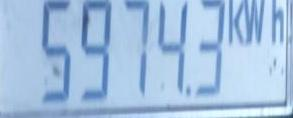.: (225, 0, 287, 45)
0: (185, 85, 193, 98)
4: (193, 0, 224, 96)
5: (157, 3, 188, 92)
6: (39, 0, 72, 105)
8: (123, 0, 150, 95)
:: (77, 1, 116, 103)
